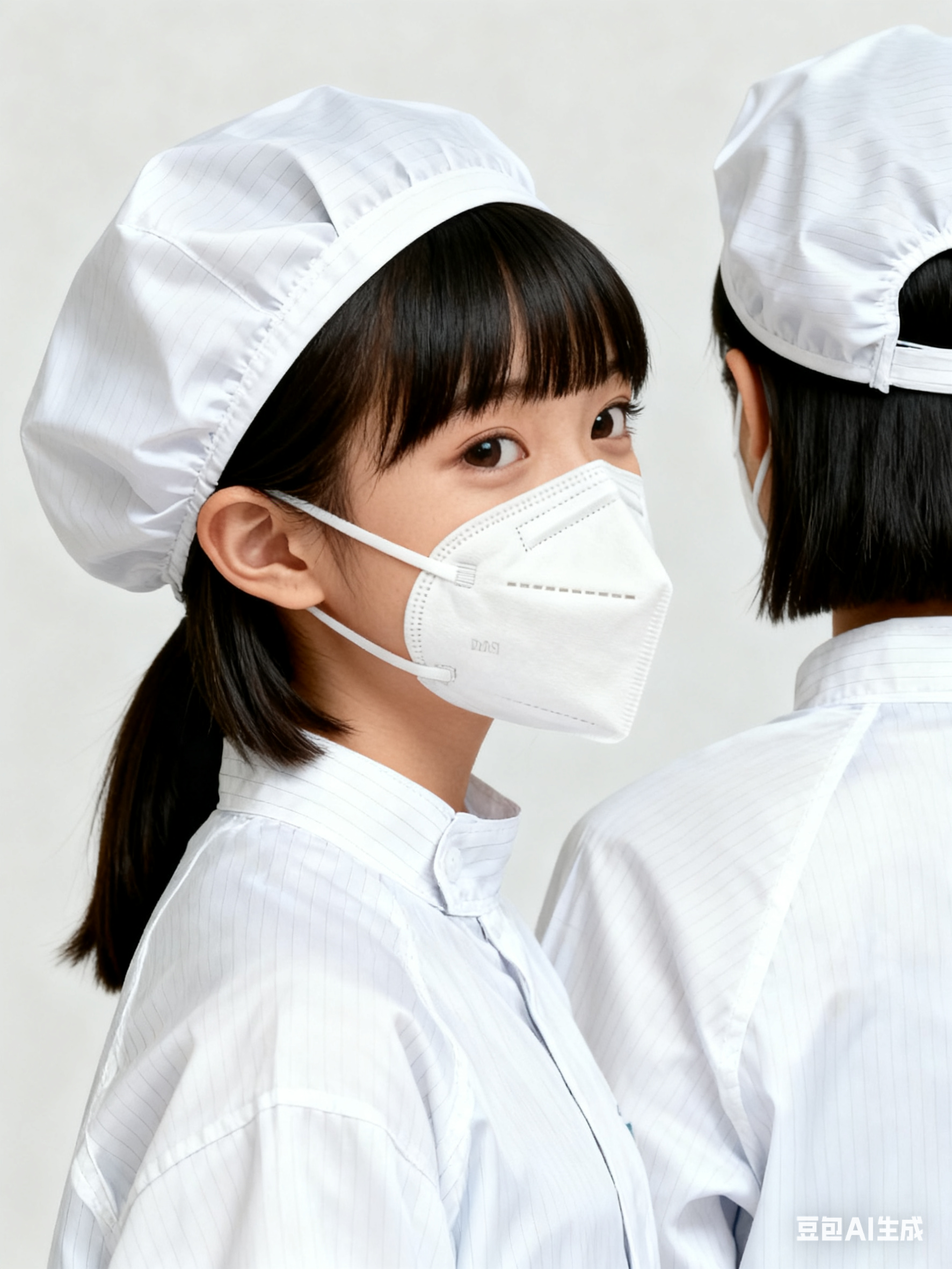MASK: (397, 463, 673, 744)
